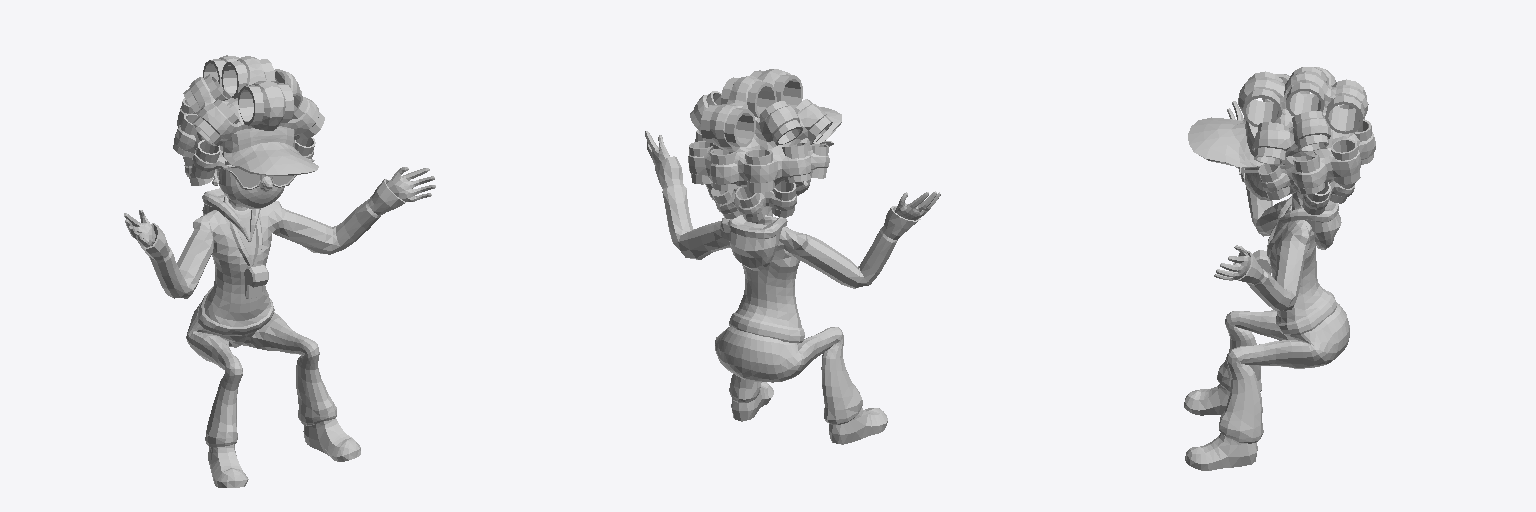
File: humano_mom_5.obj
The picture shows the model from 3 angles: view 1: azimuth 30°, elevation 25°; view 2: azimuth 150°, elevation 25°; view 3: azimuth 270°, elevation 25°; orthographic projection.
Visible parts, largest first — view 1: Fitness_Grandma_BodyGeo; view 2: Fitness_Grandma_BodyGeo; view 3: Fitness_Grandma_BodyGeo.
Boxes of the visible parts, x1=… form: Fitness_Grandma_BodyGeo: x1=124, y1=55, x2=435, y2=487; Fitness_Grandma_BodyGeo: x1=645, y1=69, x2=940, y2=444; Fitness_Grandma_BodyGeo: x1=1184, y1=67, x2=1375, y2=470.
Bounding box in the file's own units: 0.9706 × 1.16 × 0.5412.